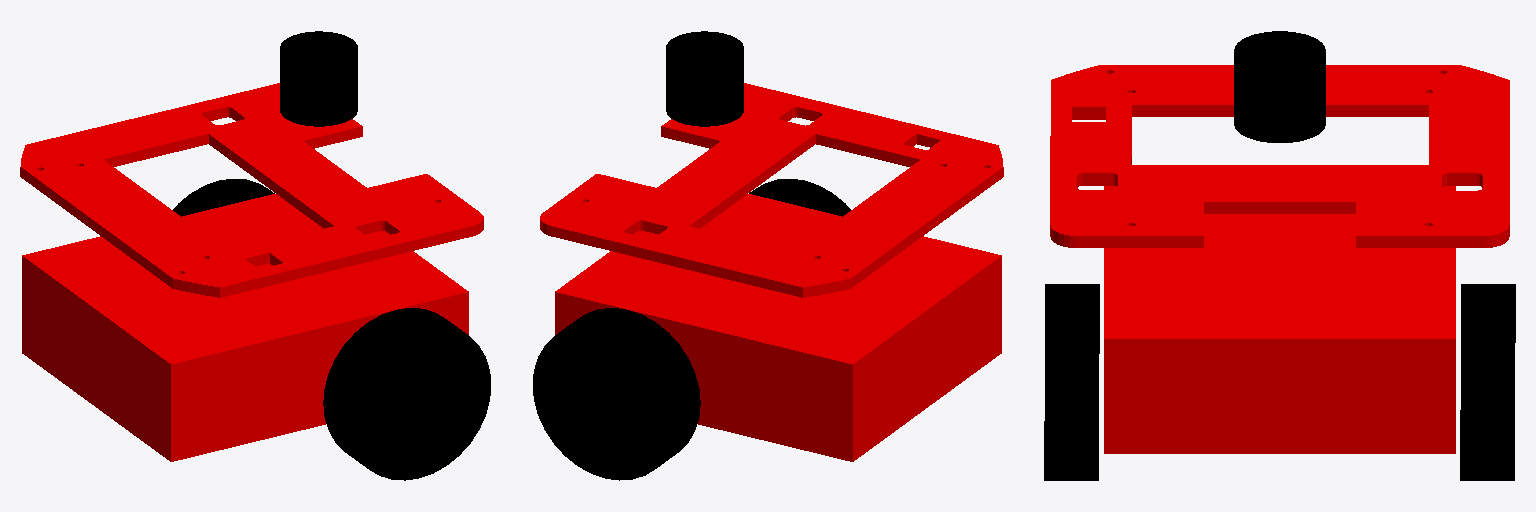
URDF robot description (firebot):
<?xml version="1.0" ?>
<robot name="firebot">
  <link name="base_link">
    <visual>
      <origin rpy="0 0 0" xyz="-0.037 0 0.0485" />
      <geometry>
        <box size="0.150 0.130 0.047" />
      </geometry>
      <material name="Red">
        <color rgba="1.0 0.0 0.0 1.0" />
      </material>
    </visual>
  </link>

  <joint name="left_wheel_joint" type="continuous">
    <origin xyz="0.0 0.077 0.0365" rpy="0 0 0" />
    <parent link="base_link" />
    <child link="left_wheel_link" />
    <axis xyz="0 1 0" />
  </joint>
  <link name="left_wheel_link">
    <visual>
      <geometry>
        <cylinder radius="0.0365" length="0.02032"/>
      </geometry>
      <material name="Black">
        <color rgba="0.0 0.0 0.0 1.0" />
      </material>
      <origin xyz="0 0 0" rpy="1.57 0 0" />
    </visual>
  </link>

  <joint name="right_wheel_joint" type="continuous">
    <origin xyz="0.0 -0.077 0.0365" rpy="0 0 0" />
    <parent link="base_link" />
    <child link="right_wheel_link" />
    <axis xyz="0 1 0" />
  </joint>
  <link name="right_wheel_link">
    <visual>
      <geometry>
        <cylinder radius="0.0365" length="0.02032"/>
      </geometry>
      <material name="Black">
        <color rgba="0.0 0.0 0.0 1.0" />
      </material>
      <origin xyz="0 0 0" rpy="1.57 0 0" />
    </visual>
  </link>

  <joint name="top_deck_joint" type="fixed">
    <origin rpy="0 0 0" xyz="0 0 0.109" />
    <parent link="base_link" />
    <child link="top_deck_link" />
  </joint>
  <link name="top_deck_link">
    <visual>
      <origin xyz="0 0 0" rpy="0 0 1.57" />
      <geometry>
        <mesh filename="package://firebot/config/top_deck.stl" scale="0.001 0.001 0.001" />
      </geometry>
      <material name="Red">
        <color rgba="1.0 0.0 0.0 1.0" />
      </material>
    </visual>
  </link>

  <link name="ld06_frame">
    <visual>
      <geometry>
        <cylinder radius="0.017" length="0.03"/>
      </geometry>
      <material name="Black">
        <color rgba="0.0 0.0 0.0 1.0" />
      </material>
      <origin xyz="0 0 0" rpy="0 0 0" />
    </visual>
  </link>
  <joint name="ld06_joint" type="fixed">
    <origin rpy="0 0 3.14" xyz="0 0 0.157" />
    <parent link="base_link" />
    <child link="ld06_frame" />
  </joint>

</robot>

--- Render facts (derived) ---
3 views of the same robot in one strip: view 1: azimuth 30°, elevation 25°; view 2: azimuth 150°, elevation 25°; view 3: azimuth 270°, elevation 25° (orthographic).
Robot: firebot — 5 links, 4 joints (2 continuous, 2 fixed); root link base_link; default pose: every joint at zero.
Links seen in each view (by area): view 1: base_link, top_deck_link, right_wheel_link, ld06_frame, left_wheel_link; view 2: base_link, top_deck_link, left_wheel_link, ld06_frame, right_wheel_link; view 3: base_link, top_deck_link, left_wheel_link, right_wheel_link, ld06_frame.
Link boxes in pixels (x1,y1,x2,y2): base_link: [22, 194, 468, 461]; top_deck_link: [20, 83, 483, 297]; right_wheel_link: [323, 308, 490, 480]; ld06_frame: [280, 31, 357, 126]; left_wheel_link: [173, 179, 274, 216]; base_link: [555, 194, 1001, 461]; top_deck_link: [540, 83, 1003, 297]; left_wheel_link: [533, 308, 700, 480]; ld06_frame: [666, 31, 743, 126]; right_wheel_link: [749, 179, 850, 216]; base_link: [1104, 186, 1455, 453]; top_deck_link: [1050, 65, 1509, 247]; left_wheel_link: [1460, 284, 1515, 480]; right_wheel_link: [1044, 284, 1099, 480]; ld06_frame: [1234, 31, 1325, 142].
Bounding box of the posed robot: 0.1503 × 0.1744 × 0.172 m (x, y, z).
1 mesh visuals loaded from 1 distinct referenced files (1 binary STL).